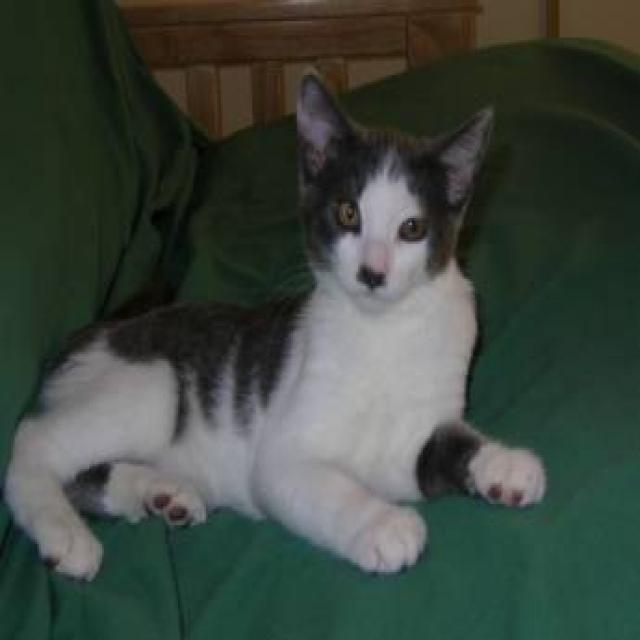Cats: (0, 70, 547, 582)
